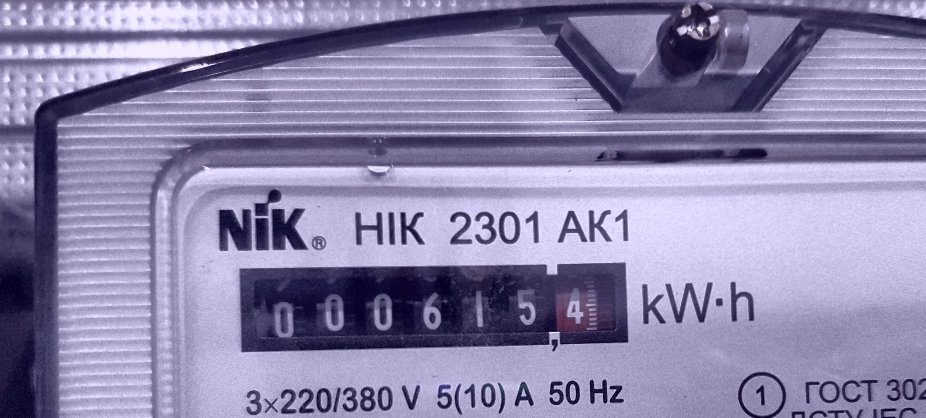0: (370, 289, 395, 332), (271, 297, 296, 338), (322, 290, 346, 330)
1: (473, 287, 486, 328)
4: (565, 284, 584, 324)
5: (515, 284, 538, 326)
6: (420, 289, 443, 329)
screen: (226, 249, 641, 363)
